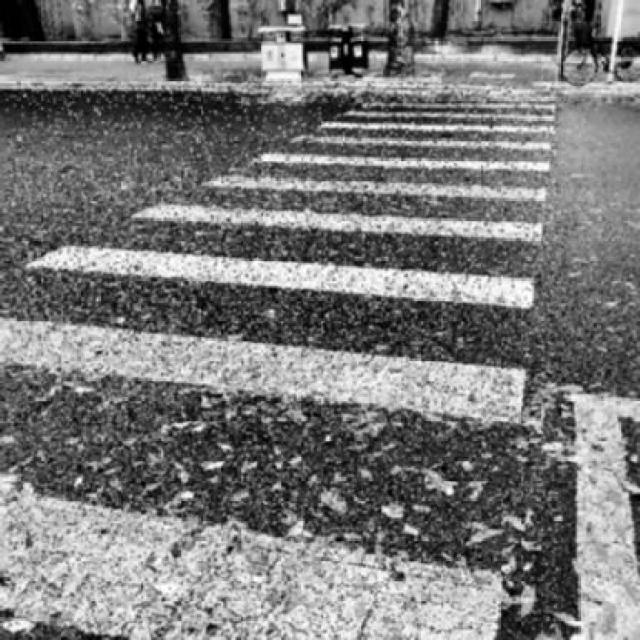crosswalk: (0, 90, 559, 640)
